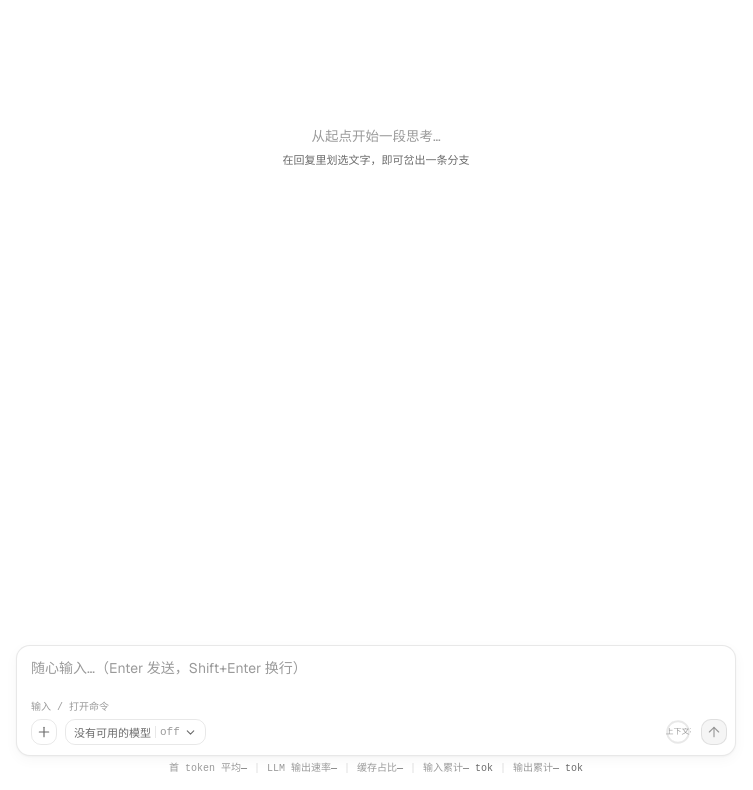
ChatView turn and approval controls › reloads and shows the checkpoint summary after successful /compact
Type "/compact" into the dropdown with placeholder "随心输入…（Enter 发送，Shift+Enter 换行）" at {"x": 379, "y": 675}, box [31, 654, 727, 696]
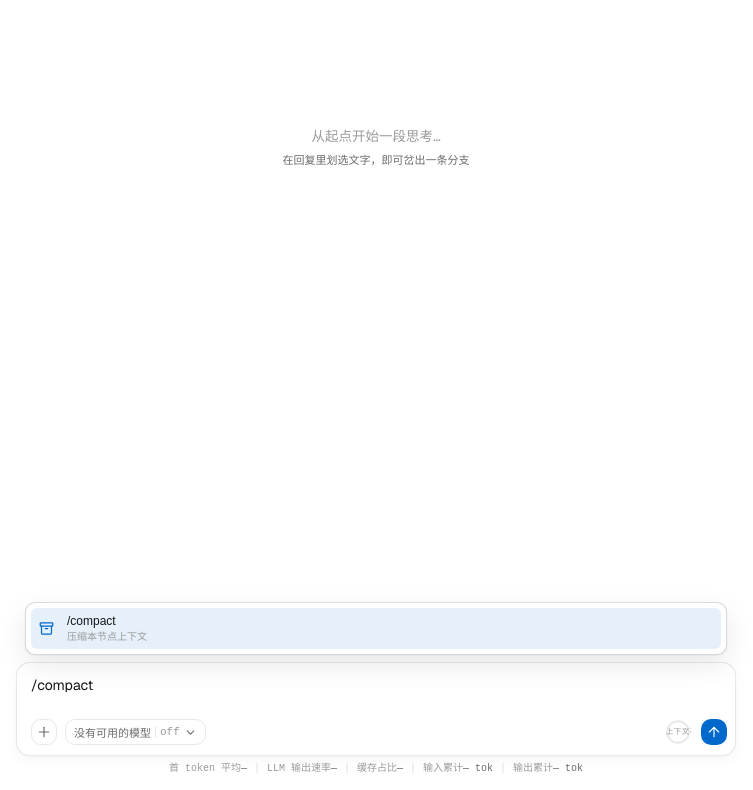
Press Enter in the dropdown with placeholder "随心输入…（Enter 发送，Shift+Enter 换行）", box [31, 671, 727, 713]
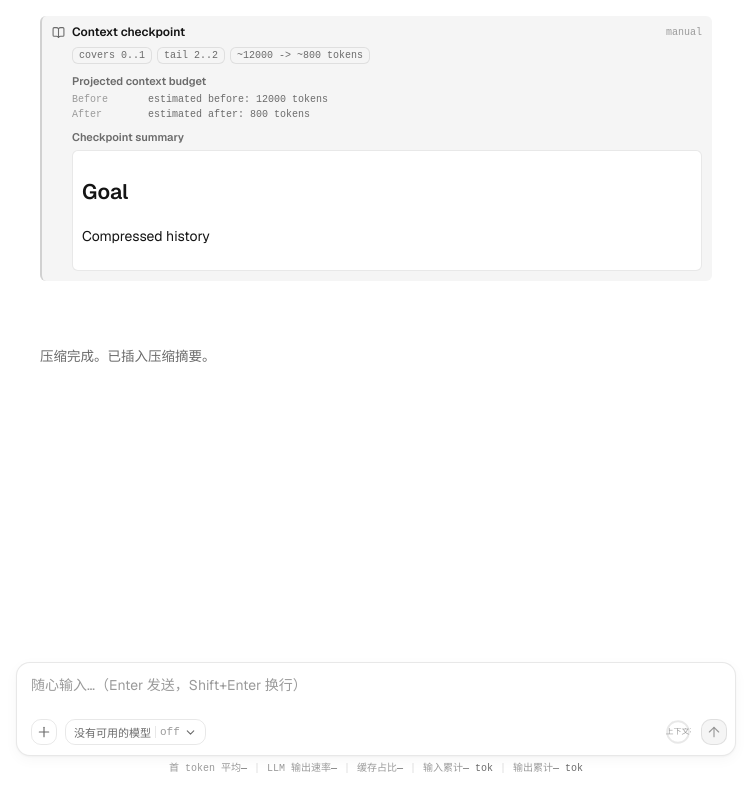
Now the text "Compressed history" is shown, box [82, 227, 210, 245]
Now the text "压缩完成。已插入压缩摘要。" is shown, box [40, 350, 216, 365]
